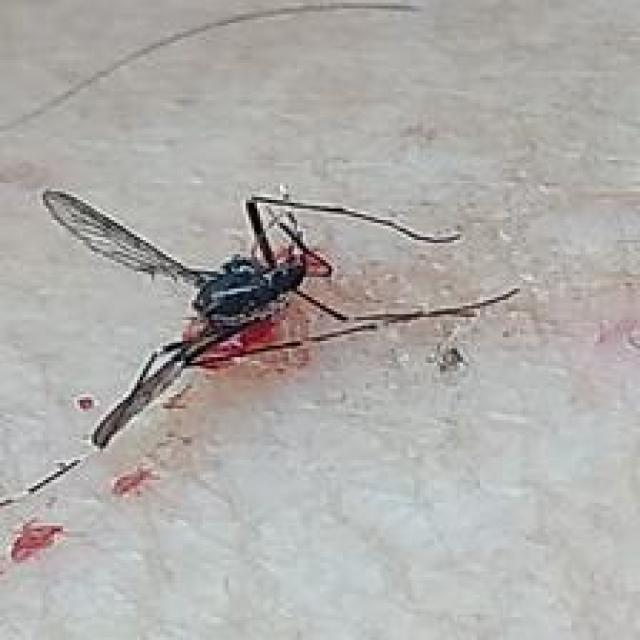Aedes albopictus: (1, 183, 522, 517)
